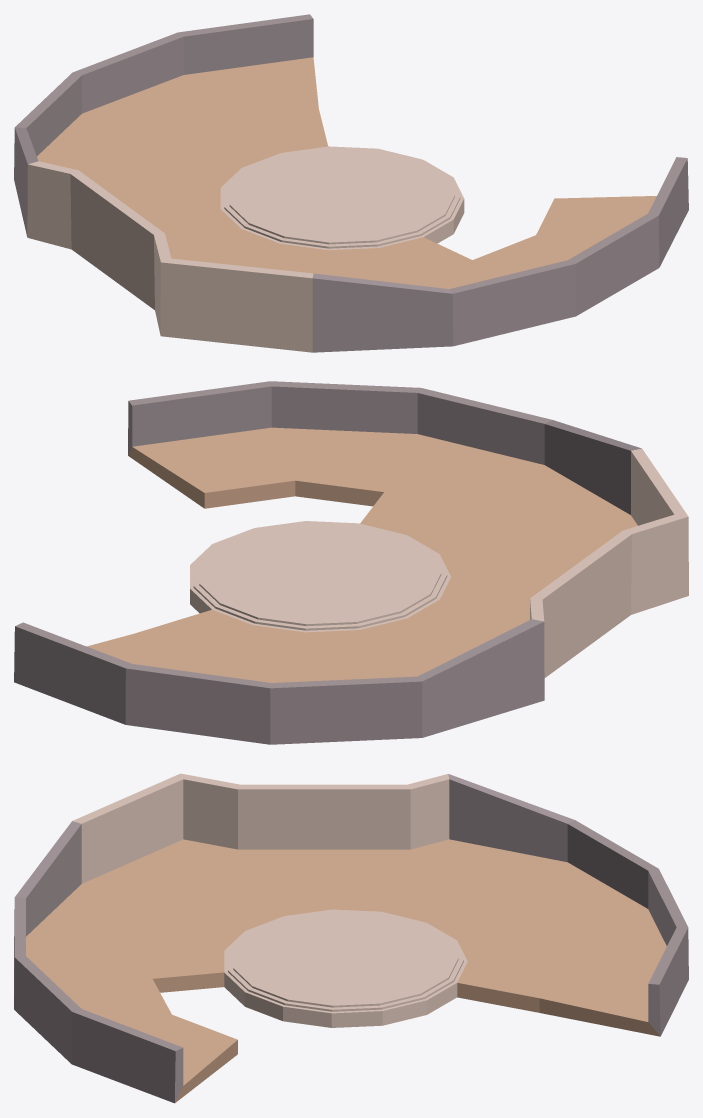
File: museum-ground.fbx
The picture shows the model from 3 angles, top to bottom: view 1: azimuth 30°, elevation 25°; view 2: azimuth 150°, elevation 25°; view 3: azimuth 270°, elevation 25°; orthographic projection. The views are drawn at different scales.
Visible parts, largest first — view 1: Circle.010; view 2: Circle.010; view 3: Circle.010.
Boxes of the visible parts, left/top/right/bottom form: Circle.010: left=14, top=14, right=688, bottom=352; Circle.010: left=14, top=381, right=688, bottom=744; Circle.010: left=14, top=773, right=688, bottom=1103.
Bounding box in the file's own units: 17808 × 2466 × 19798.
